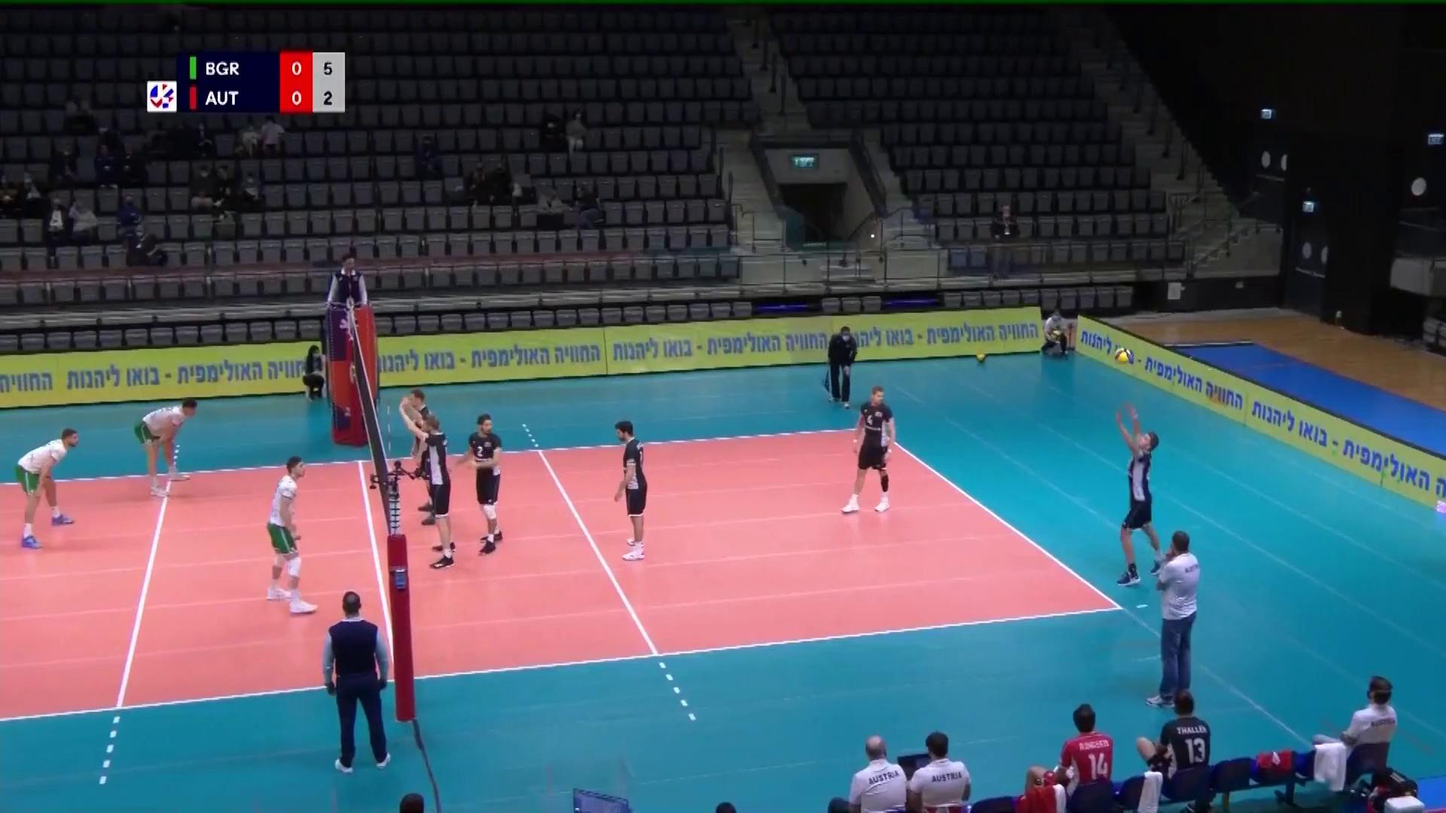ball: (1113, 347, 1132, 364)
